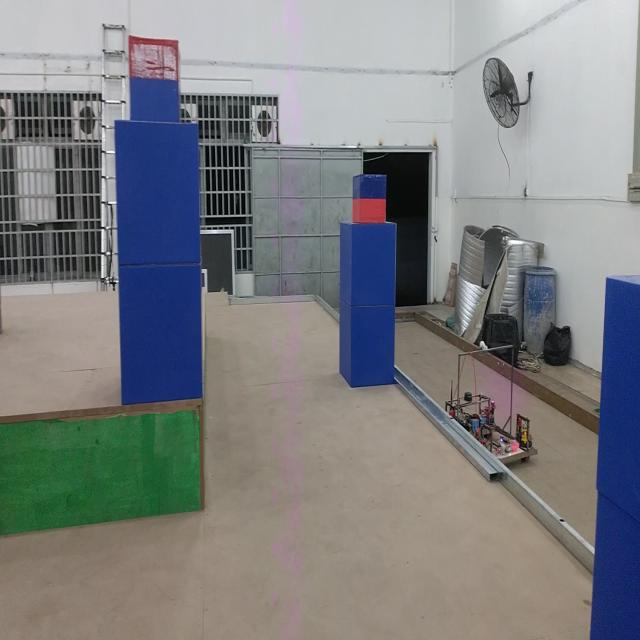earth_block: (112, 121, 205, 266), (117, 263, 203, 402), (336, 306, 398, 390), (338, 221, 398, 307)
sky_block: (126, 33, 181, 123), (350, 173, 389, 223)
